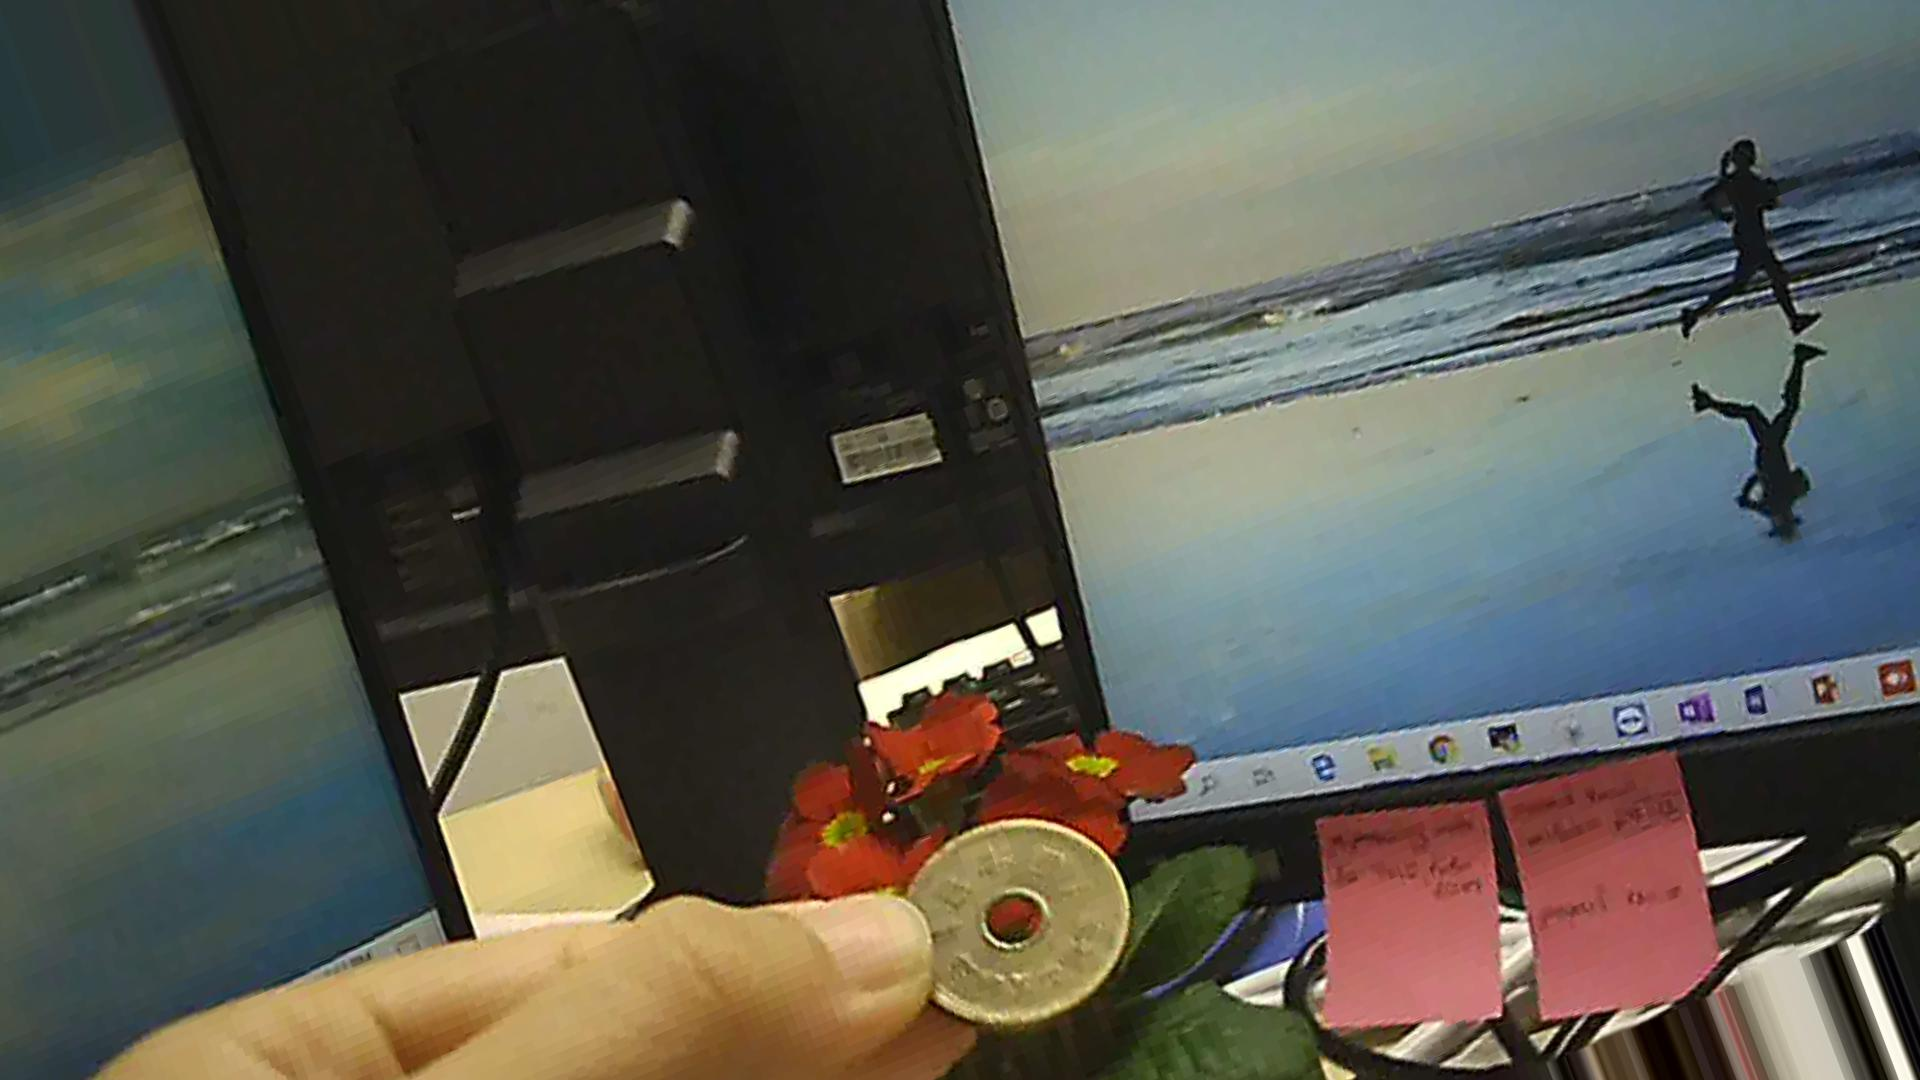5 Yen: (884, 814, 1141, 1033)
